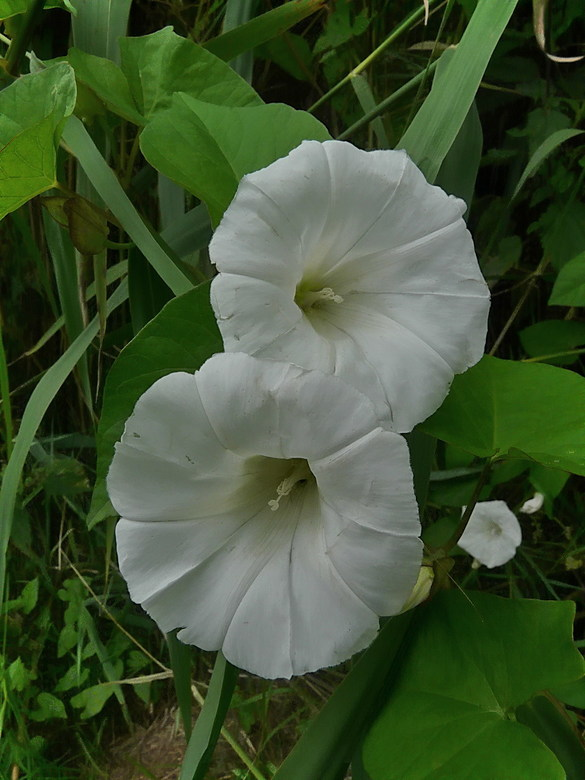haagwinde: (93, 124, 500, 691)
